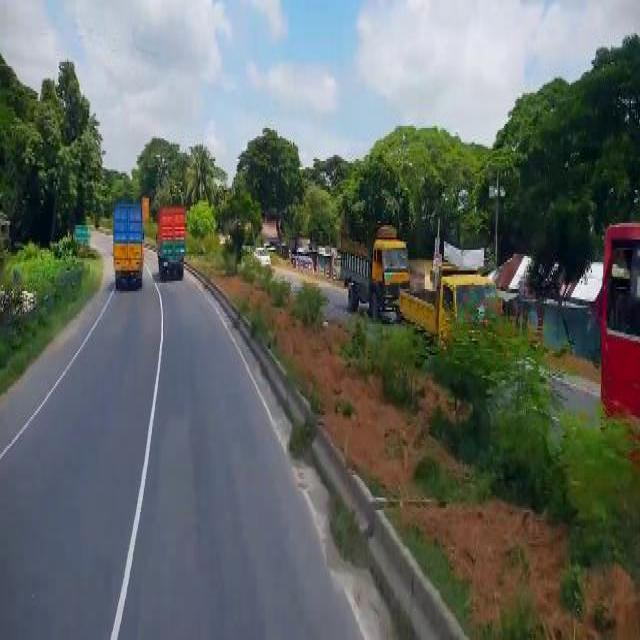pickup: (109, 195, 148, 288), (150, 199, 188, 284)
truck: (337, 217, 409, 320)
